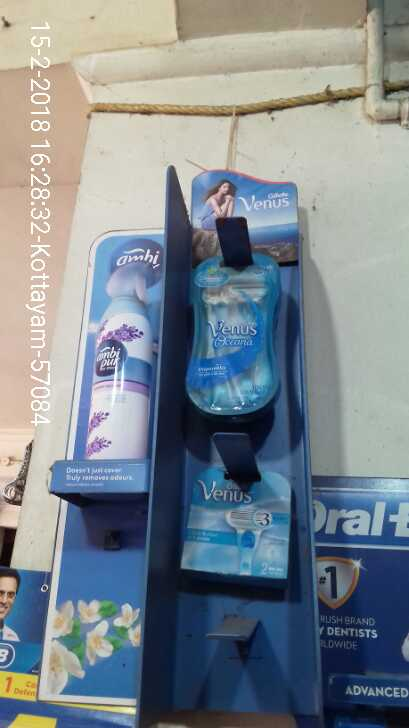beauty: (185, 463, 289, 589), (195, 256, 279, 411)
home: (82, 258, 159, 463)
